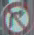Don't turn right: (1, 1, 31, 34)
